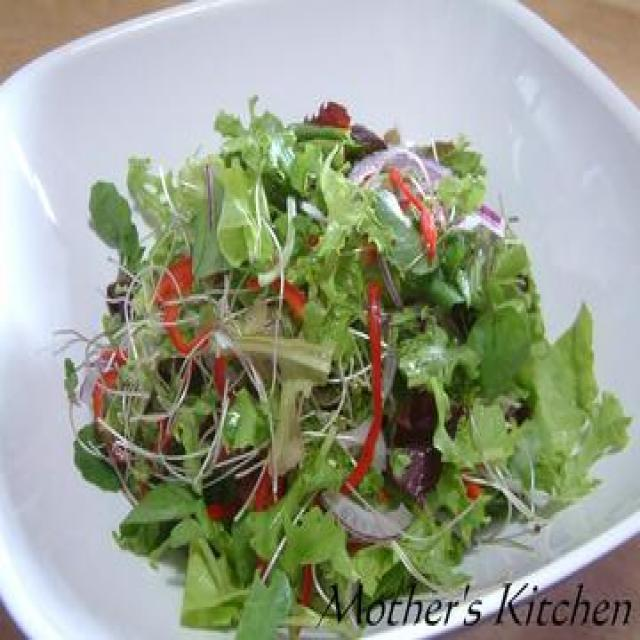Green Salad: (76, 100, 604, 560)
